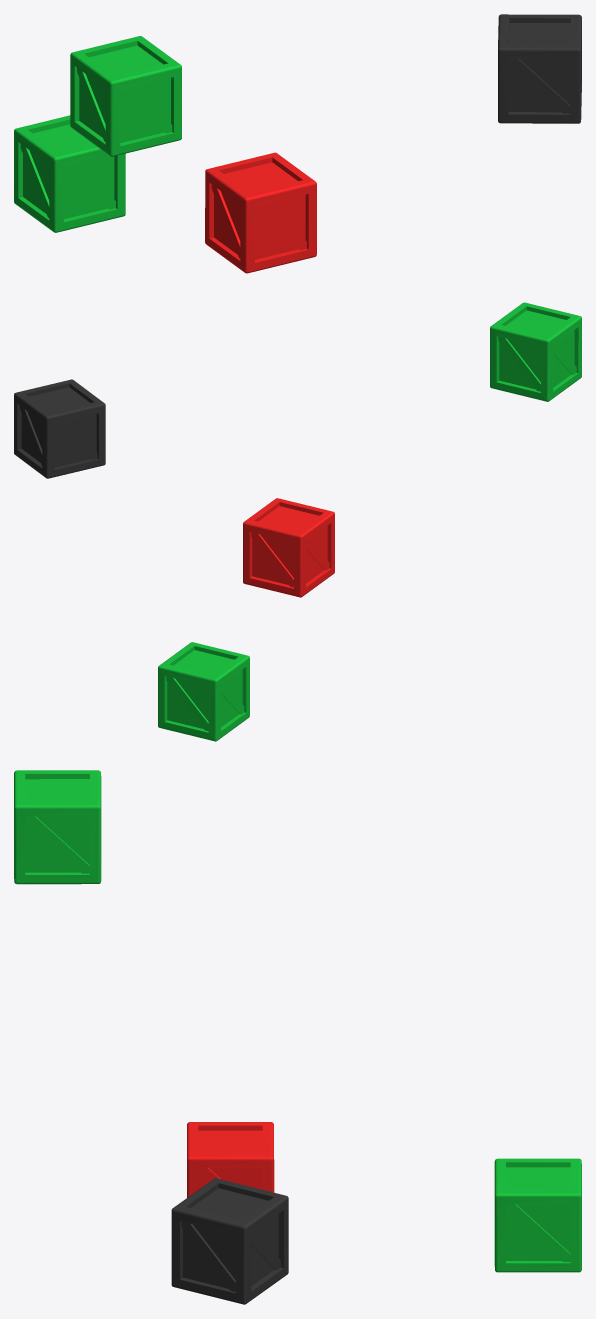
Rendered from obicne kocke za odron.fbx.
The picture shows the model from 3 angles, top to bottom: view 1: azimuth 30°, elevation 25°; view 2: azimuth 150°, elevation 25°; view 3: azimuth 270°, elevation 25°; orthographic projection. The views are drawn at different scales.
Visible parts, largest first — view 1: Kocka_za_screenshot_scenu__12_, Kocka_za_screenshot_scenu__2_, Kocka_za_screenshot_scenu__1_, Kocka_za_screenshot_scenu__4_; view 2: Kocka_za_screenshot_scenu__4_, Kocka_za_screenshot_scenu__1_, Kocka_za_screenshot_scenu__2_, Kocka_za_screenshot_scenu__12_; view 3: Kocka_za_screenshot_scenu__4_, Kocka_za_screenshot_scenu__1_, Kocka_za_screenshot_scenu__12_, Kocka_za_screenshot_scenu__2_.
Boxes of the visible parts, x1,y1,x2,y2 form: Kocka_za_screenshot_scenu__12_: (70,36,181,156); Kocka_za_screenshot_scenu__2_: (205,152,316,273); Kocka_za_screenshot_scenu__1_: (14,115,125,232); Kocka_za_screenshot_scenu__4_: (498,14,581,123); Kocka_za_screenshot_scenu__4_: (14,379,105,478); Kocka_za_screenshot_scenu__1_: (158,642,249,741); Kocka_za_screenshot_scenu__2_: (243,498,334,597); Kocka_za_screenshot_scenu__12_: (490,302,581,401); Kocka_za_screenshot_scenu__4_: (171,1178,288,1304); Kocka_za_screenshot_scenu__1_: (494,1158,581,1272); Kocka_za_screenshot_scenu__12_: (14,770,101,884); Kocka_za_screenshot_scenu__2_: (187,1122,274,1197).
Bounding box in the file's own units: 802 × 478 × 650.
